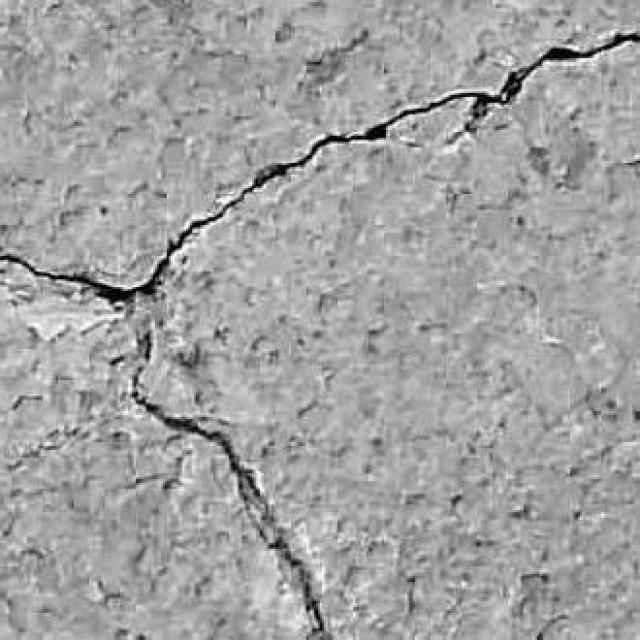crack: (0, 32, 639, 304), (130, 328, 331, 639), (464, 32, 639, 131)
